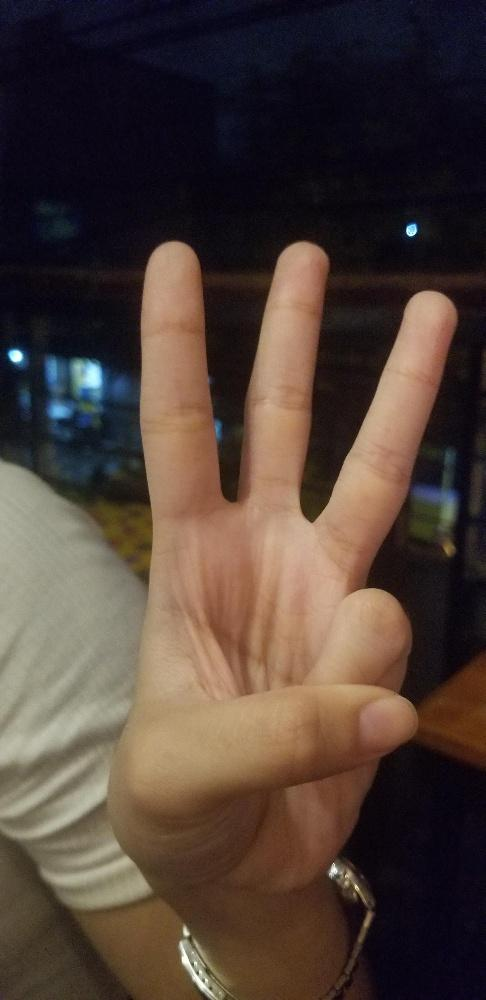w: (102, 236, 457, 869)
